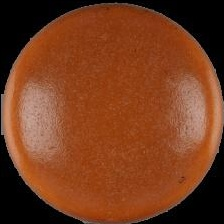52125-284: (0, 0, 224, 224)
